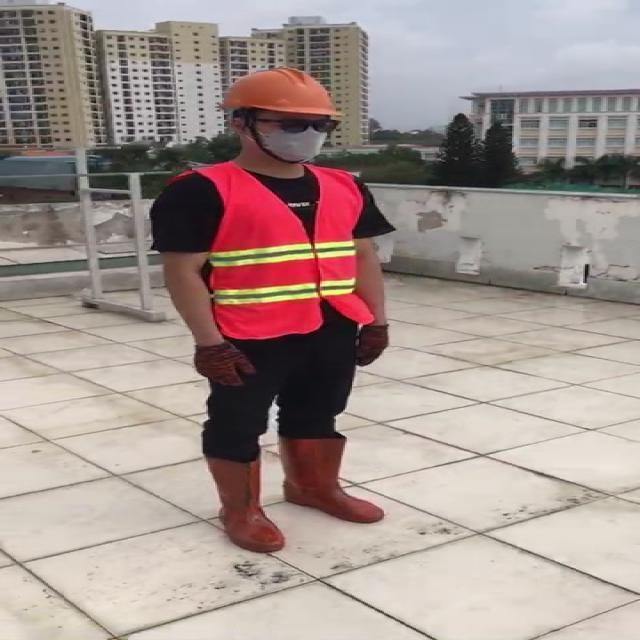gloves: (189, 340, 255, 386), (350, 324, 390, 368)
goggles: (249, 118, 341, 134)
helmet: (224, 67, 339, 118)
safety_vest: (197, 164, 373, 340)
